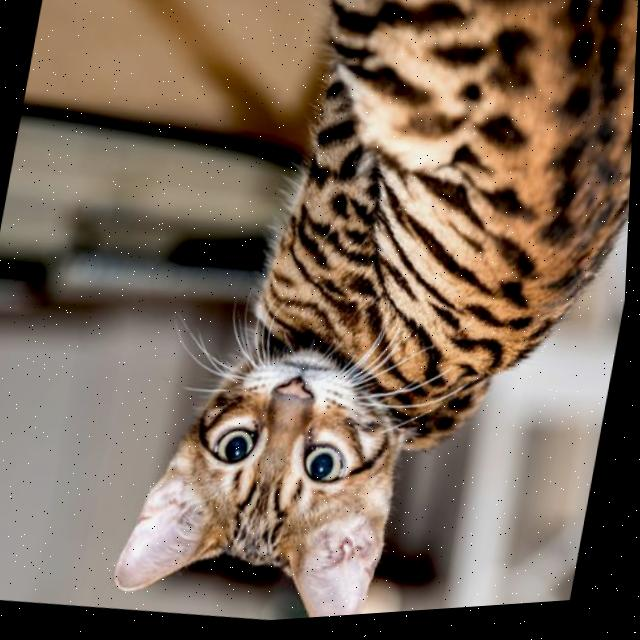Toyger: (108, 0, 640, 633)
